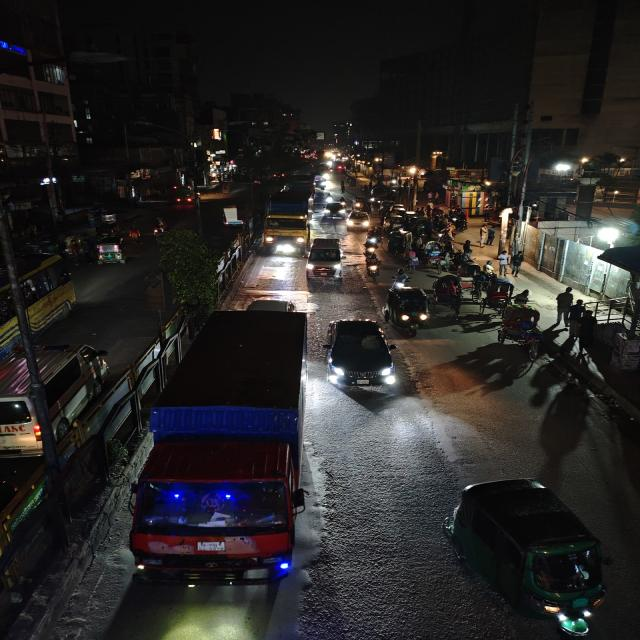bus: (0, 252, 78, 366)
car: (0, 339, 109, 460), (324, 316, 399, 397), (304, 237, 345, 281), (345, 209, 373, 231), (322, 200, 348, 218)
cng: (444, 471, 618, 635), (384, 286, 433, 332), (92, 234, 127, 266)
motorcycle: (362, 250, 383, 282), (124, 220, 144, 246), (389, 267, 412, 289), (148, 214, 167, 240), (352, 197, 367, 211)
pedestrian: (555, 286, 574, 318), (496, 249, 511, 277), (403, 247, 421, 270), (516, 287, 534, 309), (570, 299, 587, 322), (508, 257, 524, 279), (482, 259, 498, 279)
pickup_van: (217, 202, 250, 228)
rickshaw: (493, 305, 542, 349), (430, 273, 469, 313), (479, 279, 514, 312), (363, 229, 382, 254)
truck: (133, 310, 314, 586), (263, 188, 315, 250)
